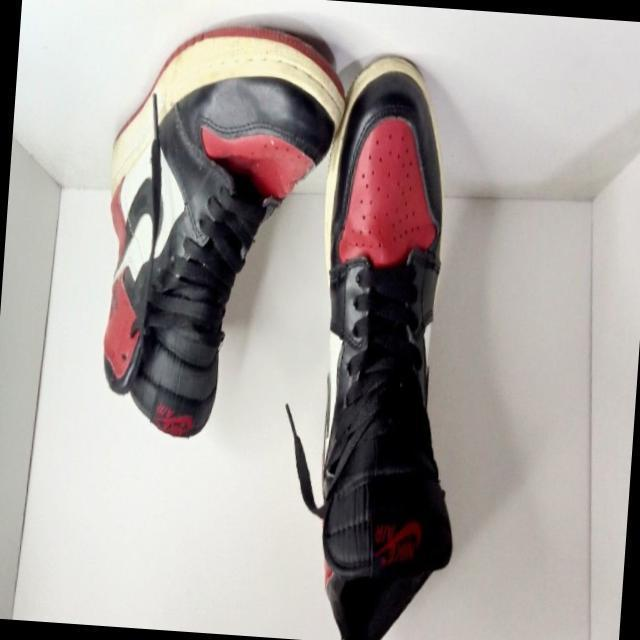nike fake jordan 1: (92, 8, 352, 448), (293, 49, 486, 640)
